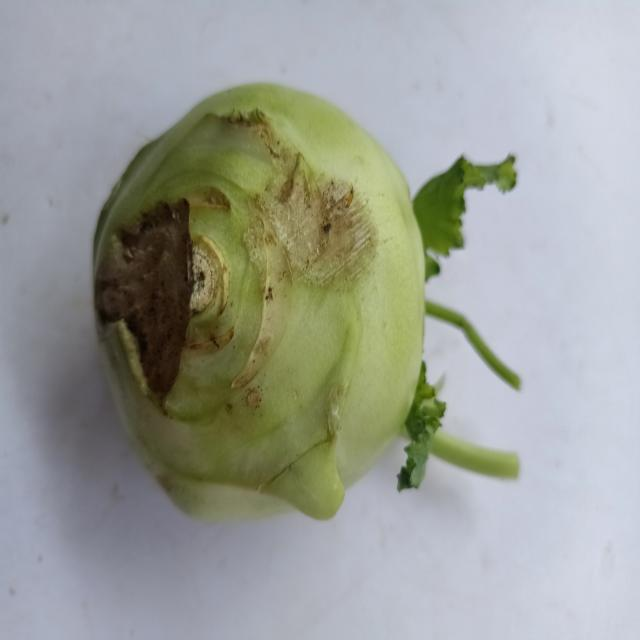Turnip: (80, 78, 553, 552)
